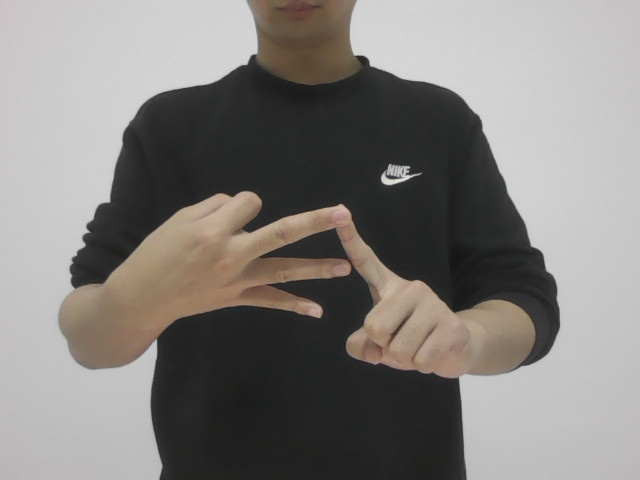name: (137, 191, 466, 388)
